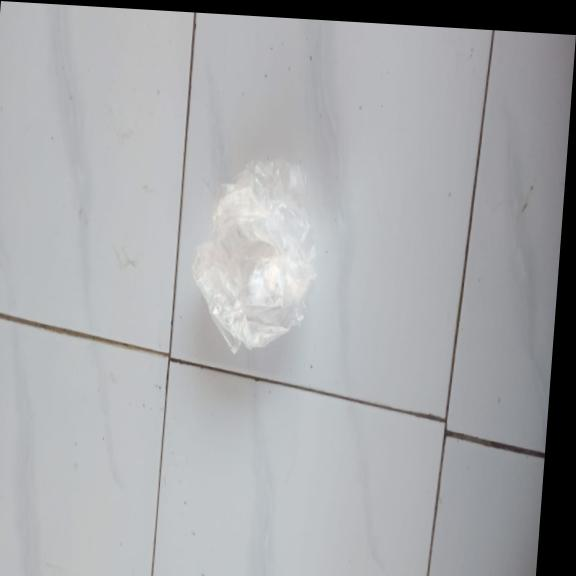Plastik: (186, 151, 327, 358)
